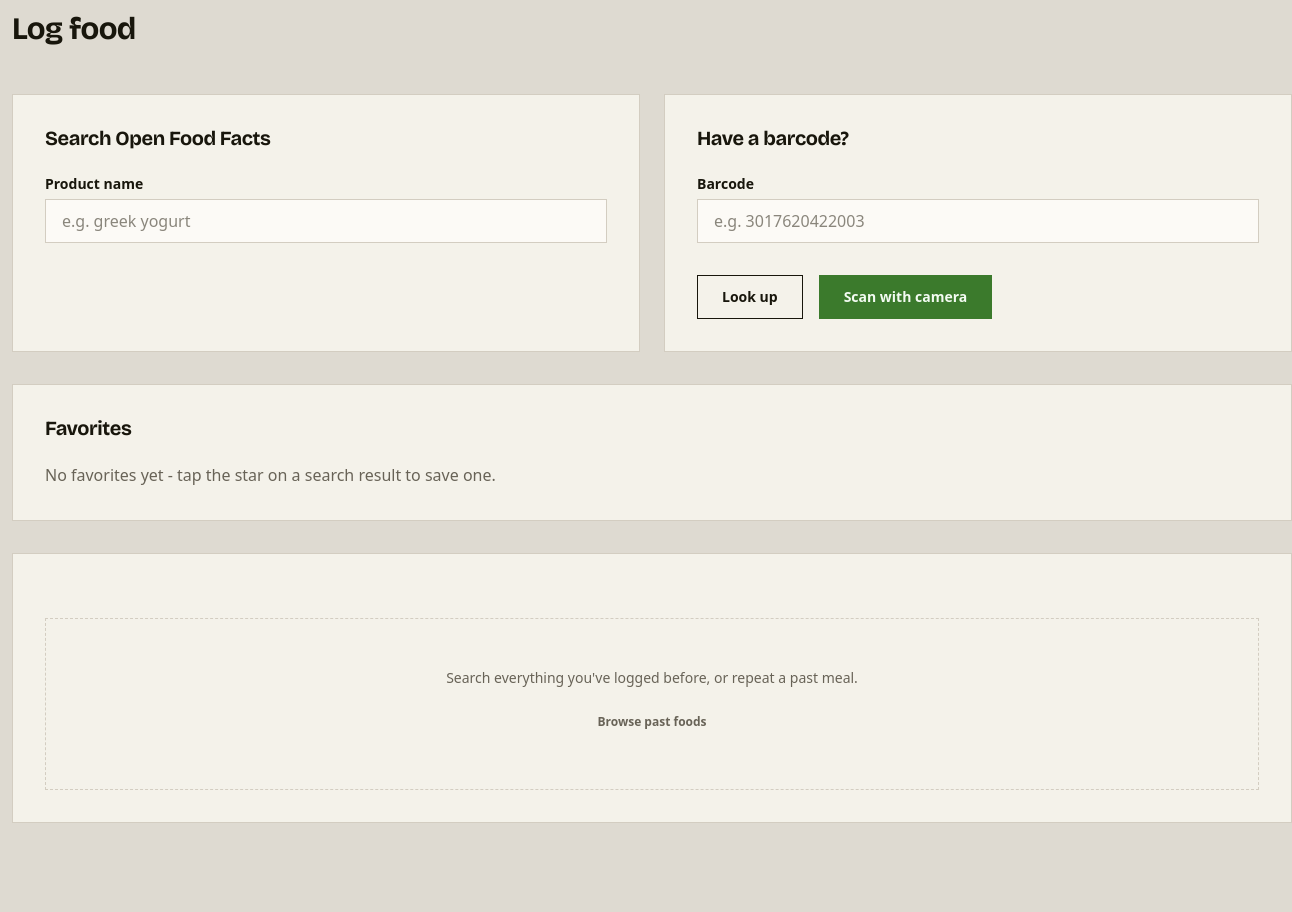
it: LogFood search › shows a generic search error for a non-API failure
This screenshot has width=1292, height=912.
Type "nutella" into the field labelled "Product name" at (326, 221), box top-left (45, 199), bottom-right (607, 243)
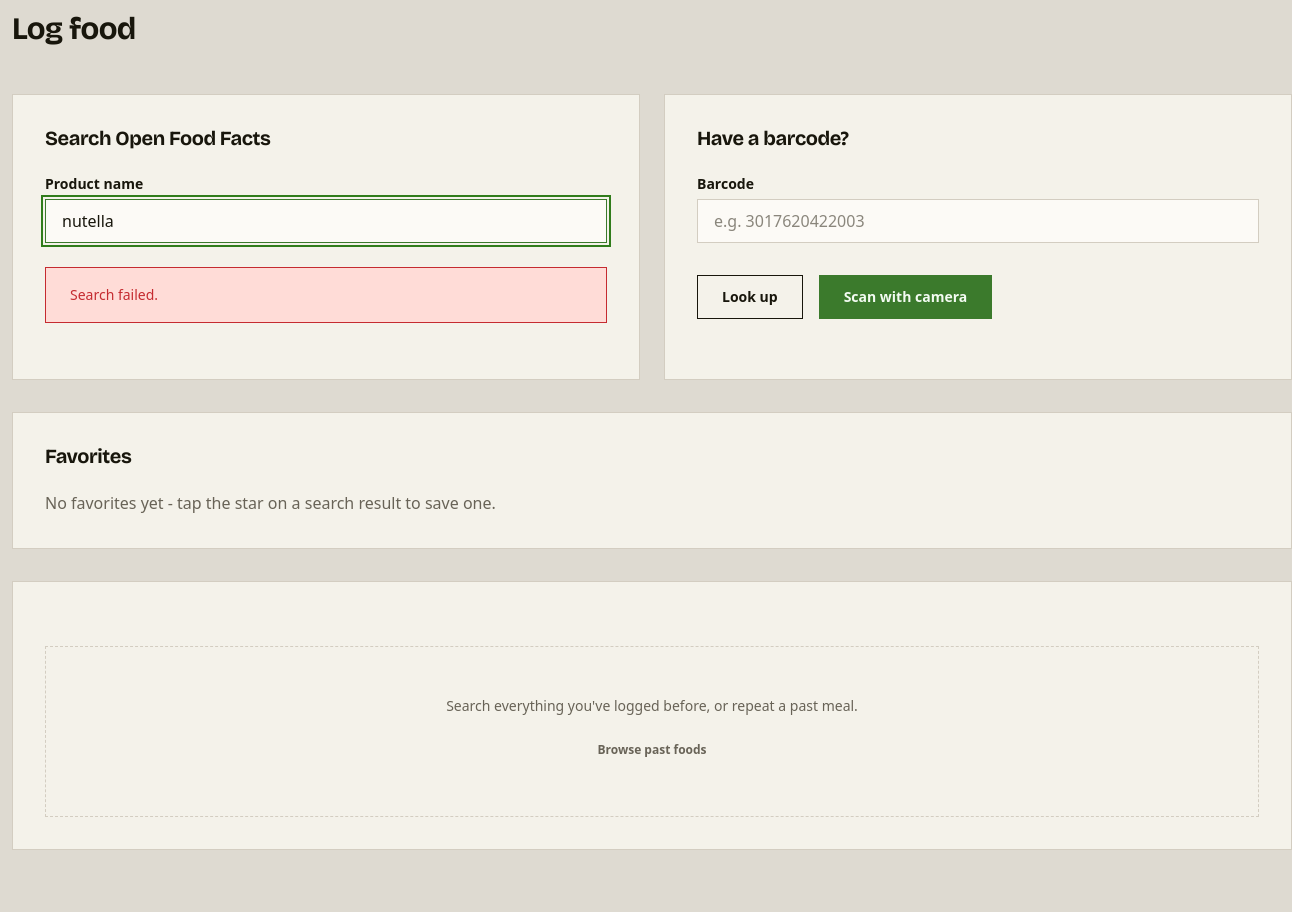
Expected: the text "Search failed." is shown, top-left (45, 267), bottom-right (607, 323)
